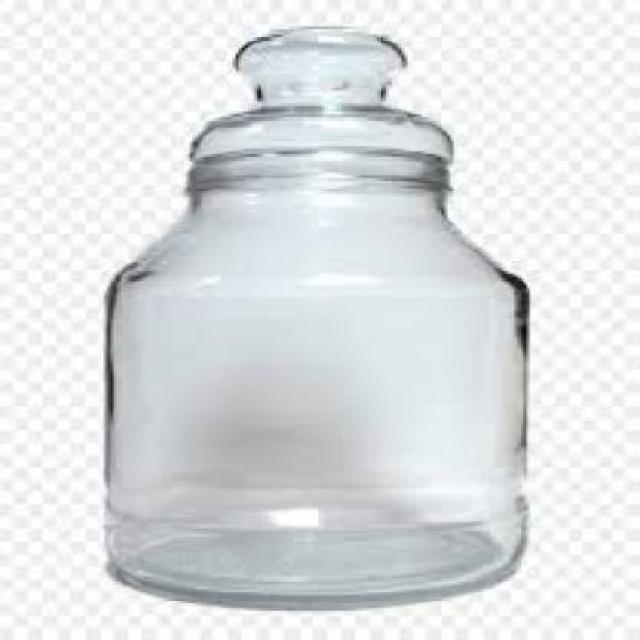kaca: (105, 25, 523, 606)
